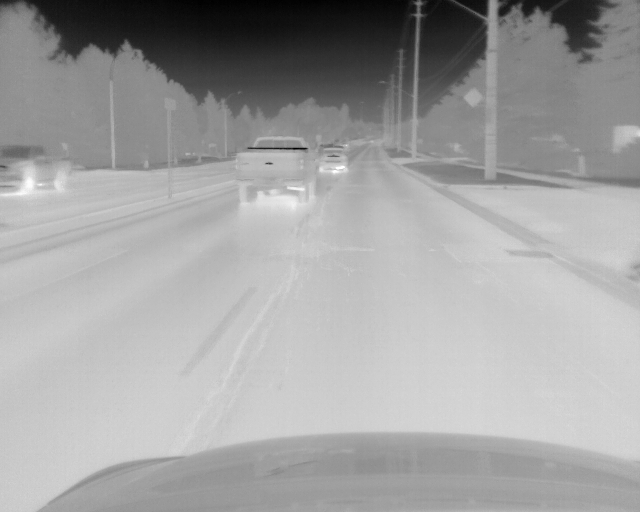car: (233, 136, 318, 208), (1, 143, 74, 194), (318, 145, 347, 174)
